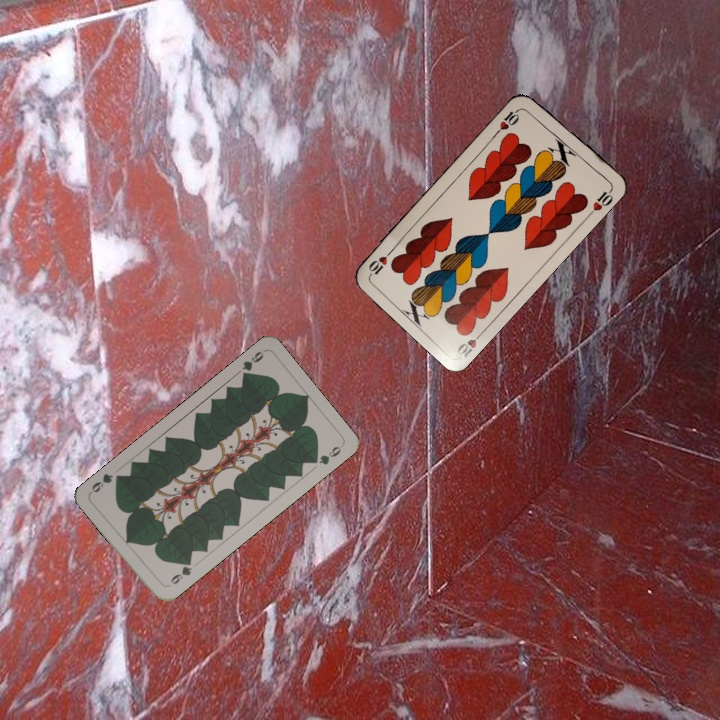G9: (163, 556, 195, 589), (238, 347, 267, 382)
H10: (453, 326, 487, 360), (492, 104, 524, 137)
